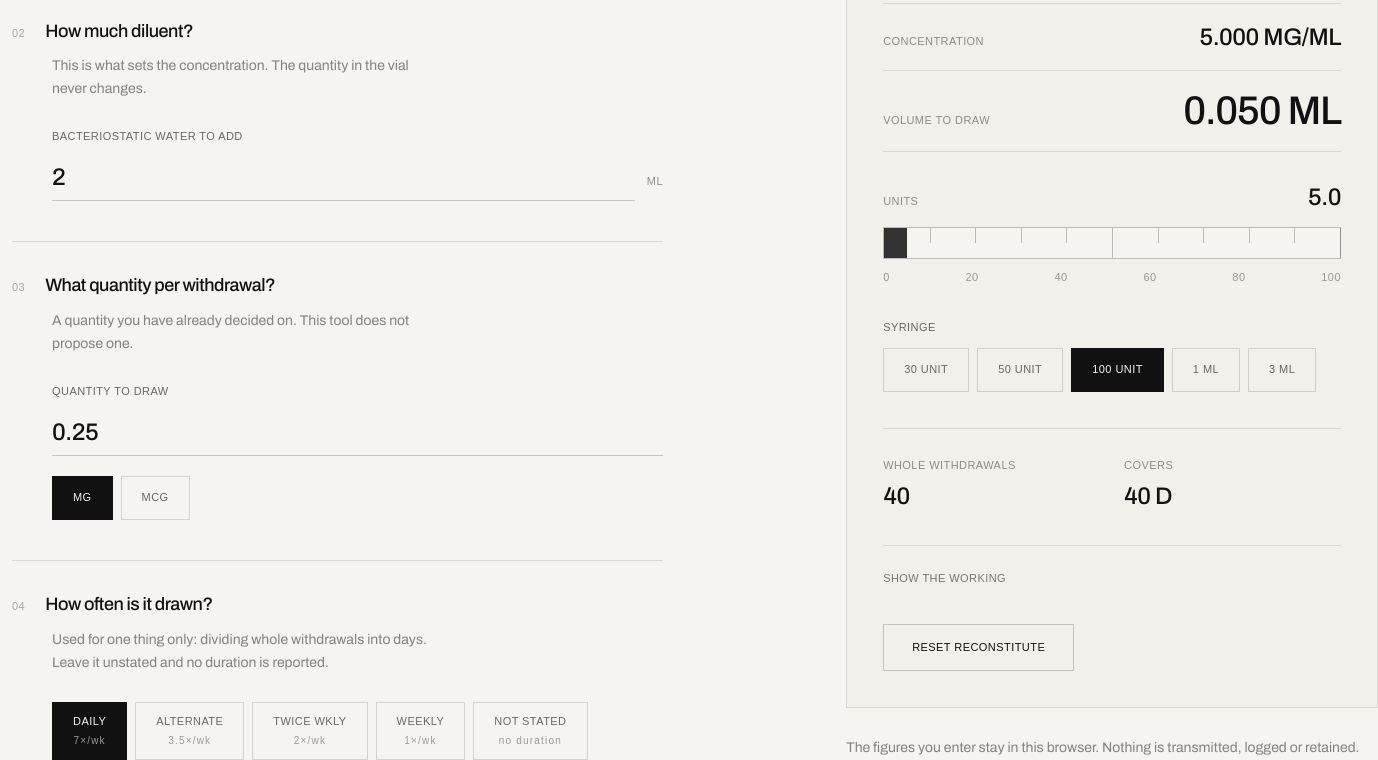
Test case: reconstitute › converts a microgram target against a milligram vial
The width and height of the screenshot is (1378, 760).
(page scrolled)
Replace the text in the number field labelled "Quantity to draw" with "250" at (358, 432), box [52,409,663,456]
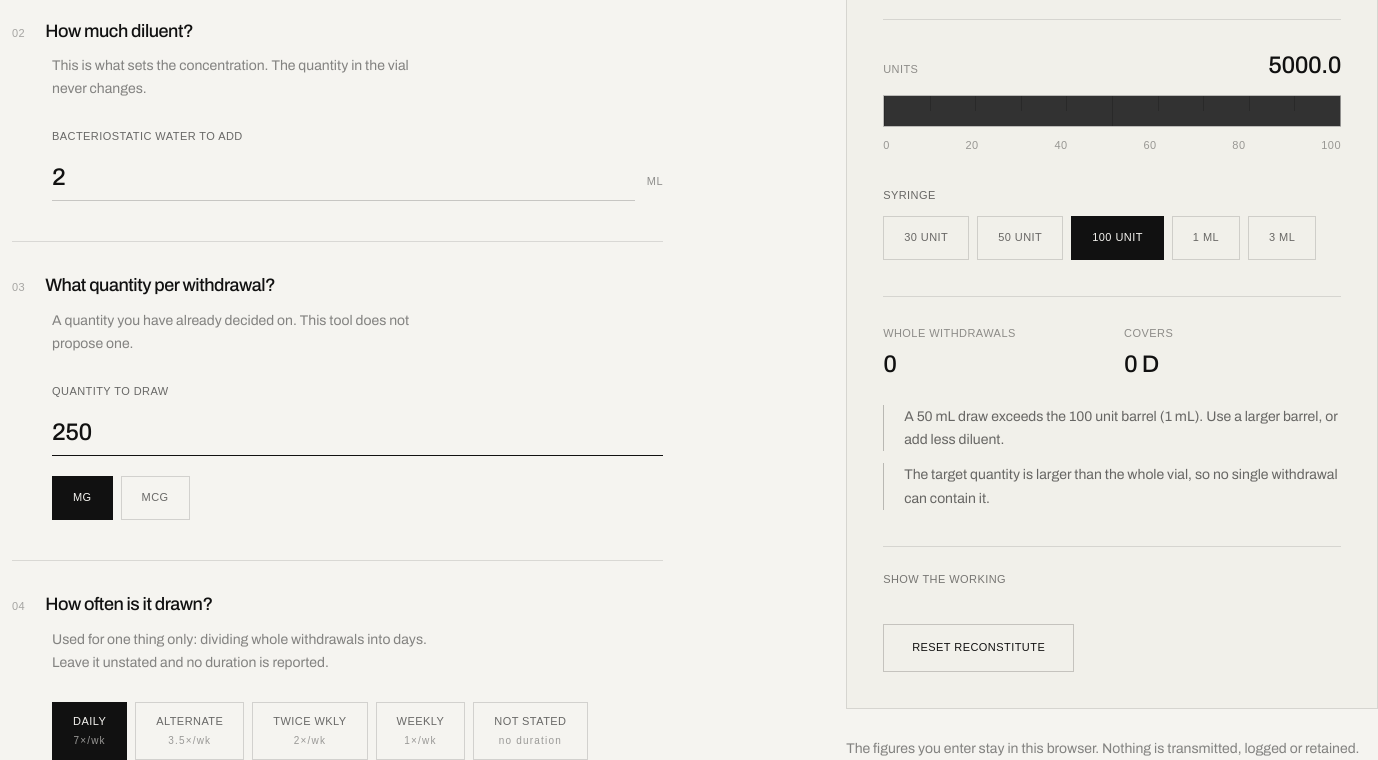
Click the radio button labelled "mcg" at (155, 498), box [121,476,190,520]
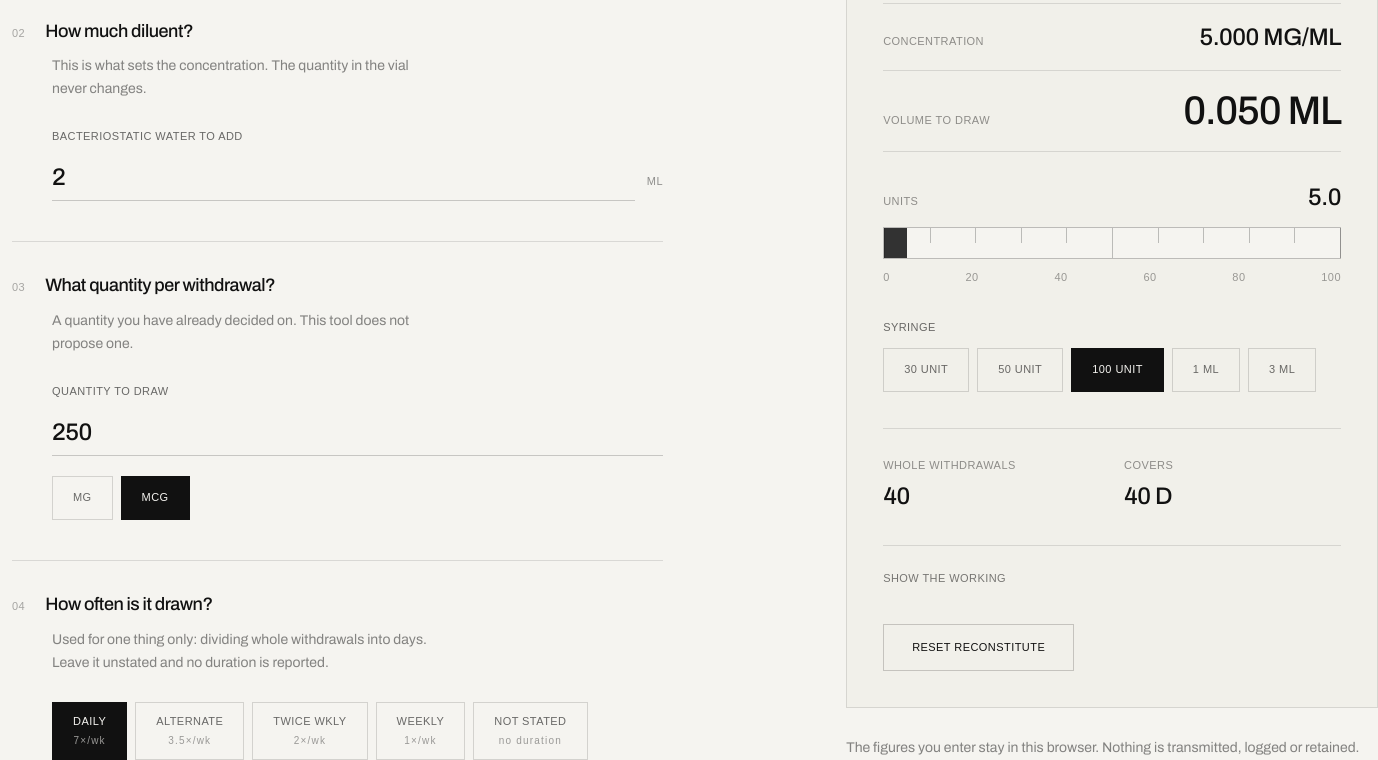
expect the text "0.050 mL" is shown: met, box [1183,92,1341,132]
